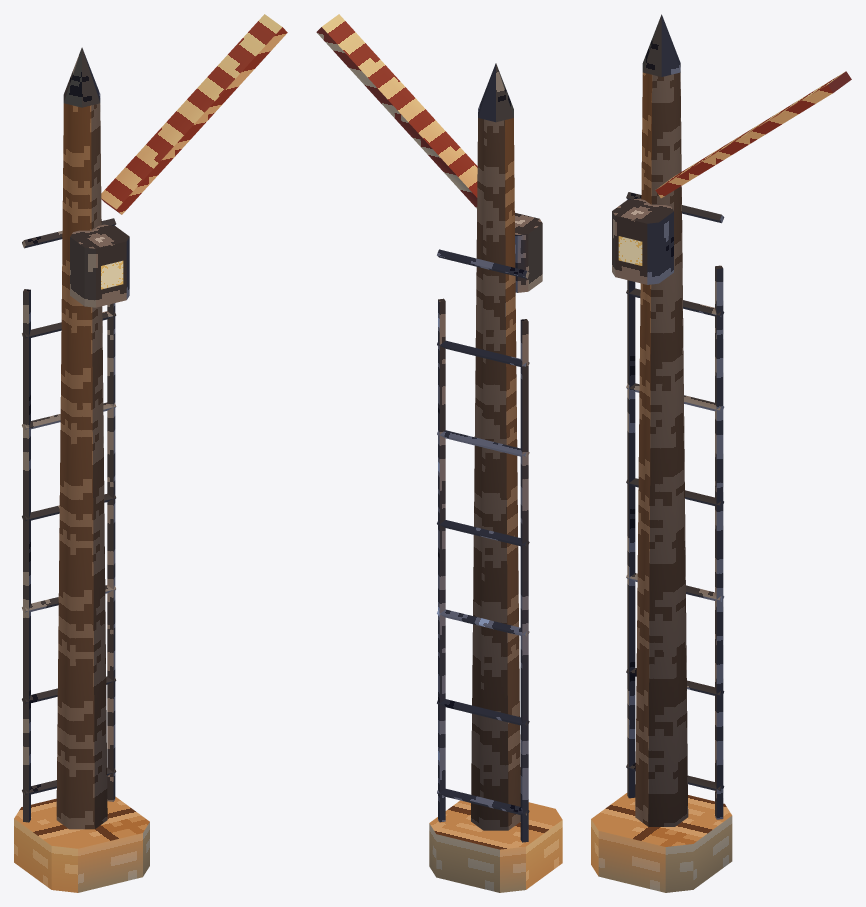
The model's file is wrail.signal__clear.glb.
3 views of the same model, side by side, from view 1: azimuth 30°, elevation 25°; view 2: azimuth 150°, elevation 25°; view 3: azimuth 330°, elevation 25° (orthographic). The views are drawn at different scales.
Parts seen in each view (by area): view 1: kit_mast, kit_ladder, kit_base, kit_arm, kit_lamp, kit_cap, kit_card_lens; view 2: kit_mast, kit_ladder, kit_base, kit_arm, kit_lamp, kit_cap; view 3: kit_mast, kit_ladder, kit_base, kit_lamp, kit_arm, kit_cap, kit_card_lens.
Boxes of the visible parts, left/top/right/bottom form: kit_mast: left=56, top=103, right=107, bottom=829; kit_ladder: left=22, top=218, right=116, bottom=822; kit_base: left=14, top=796, right=149, bottom=892; kit_arm: left=101, top=14, right=287, bottom=214; kit_lamp: left=70, top=224, right=129, bottom=307; kit_cap: left=63, top=47, right=100, bottom=107; kit_card_lens: left=101, top=260, right=123, bottom=289; kit_mast: left=471, top=118, right=520, bottom=830; kit_ladder: left=437, top=249, right=529, bottom=842; kit_base: left=429, top=800, right=562, bottom=892; kit_arm: left=316, top=14, right=477, bottom=208; kit_lamp: left=515, top=213, right=542, bottom=292; kit_cap: left=478, top=63, right=513, bottom=122; kit_mast: left=635, top=72, right=688, bottom=826; kit_ladder: left=626, top=192, right=724, bottom=819; kit_base: left=591, top=793, right=732, bottom=892; kit_lamp: left=612, top=198, right=673, bottom=284; kit_arm: left=655, top=71, right=851, bottom=198; kit_cap: left=642, top=14, right=680, bottom=76; kit_card_lens: left=618, top=236, right=642, bottom=265.
Size of the model in its own units: 1.67 by 5.55 by 0.72.
5 materials, 5 textured.
